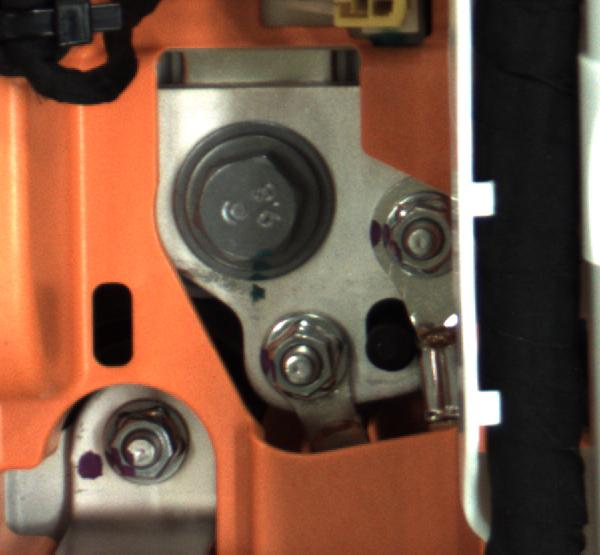nut_b: (168, 123, 333, 282)
screw_s: (98, 404, 194, 493), (366, 194, 459, 285), (251, 315, 343, 399)
